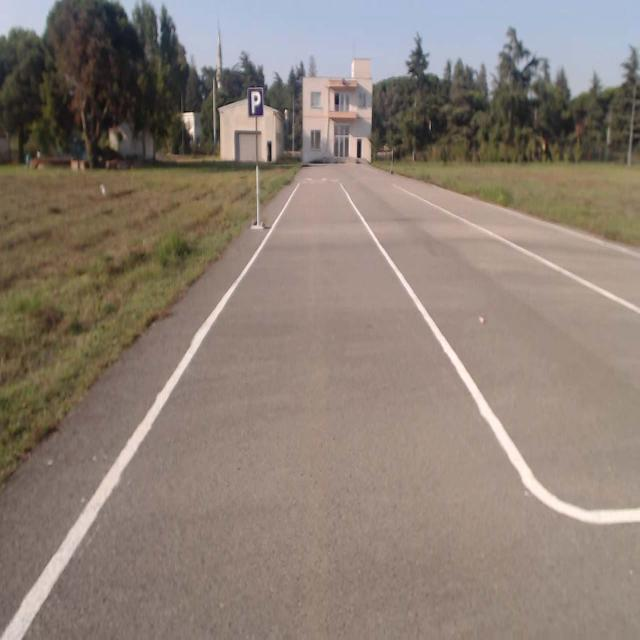park: (247, 88, 263, 116)
